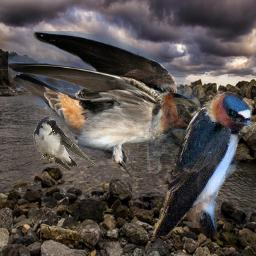Swallow: (8, 31, 204, 178), (147, 91, 252, 236), (32, 116, 99, 172)
